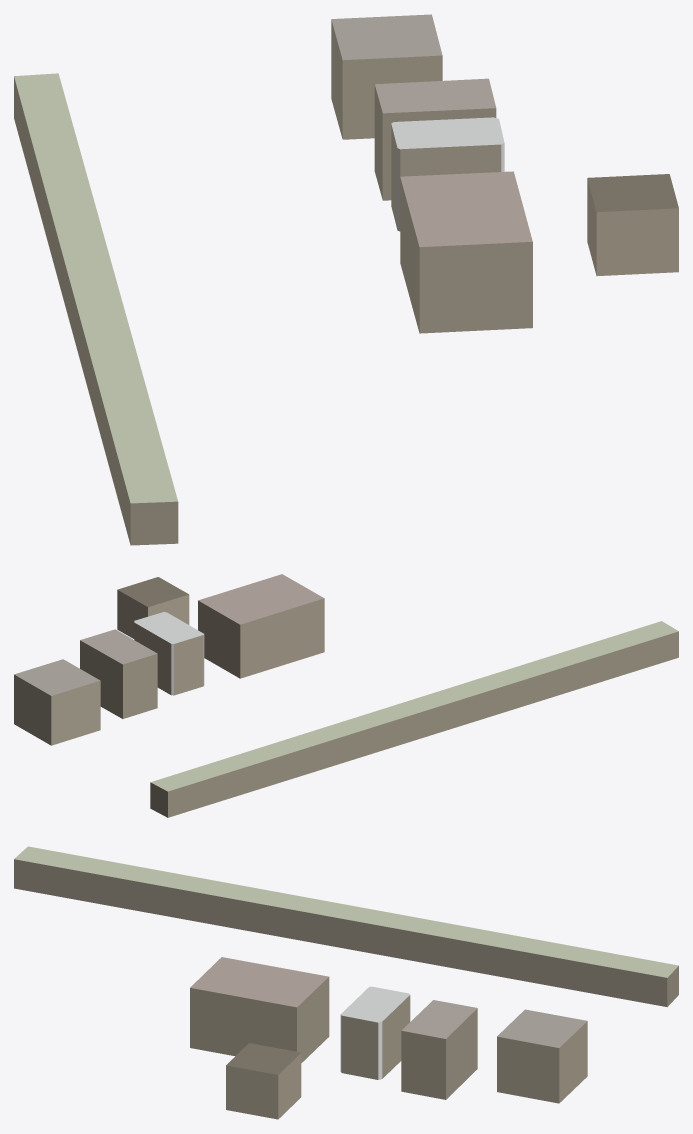
3 renders of one model, top to bottom at view 1: azimuth 30°, elevation 25°; view 2: azimuth 150°, elevation 25°; view 3: azimuth 270°, elevation 25°, orthographic. The views are drawn at different scales.
Parts seen in each view (by area): view 1: tuile; view 2: tuile; view 3: tuile.
Part boxes in pixels (left/top/right/bottom): tuile: left=14, top=14, right=678, bottom=545; tuile: left=14, top=574, right=678, bottom=817; tuile: left=14, top=846, right=678, bottom=1119.
Bounding box in the file's own units: 160 × 19.79 × 184.
